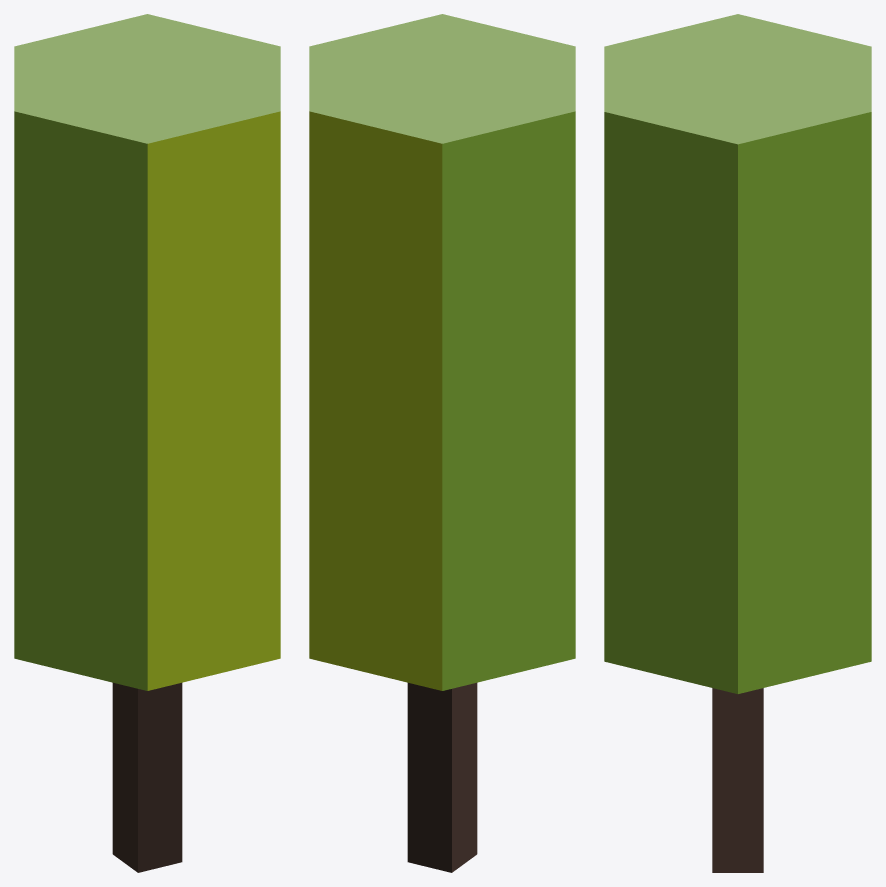
The model's file is TB_CITY_Env_Tree_Hexa_B.FBX.
3 renders of one model, left to right at view 1: azimuth 30°, elevation 25°; view 2: azimuth 150°, elevation 25°; view 3: azimuth 270°, elevation 25°, orthographic.
Parts seen in each view (by area): view 1: TB_CITY_Env_Tree_Hexa_B; view 2: TB_CITY_Env_Tree_Hexa_B; view 3: TB_CITY_Env_Tree_Hexa_B.
Part boxes in pixels (bbox=[...]): TB_CITY_Env_Tree_Hexa_B: bbox=[14, 14, 280, 872]; TB_CITY_Env_Tree_Hexa_B: bbox=[309, 14, 575, 872]; TB_CITY_Env_Tree_Hexa_B: bbox=[604, 14, 871, 872].
Bounding box in the file's own units: 2.16 × 6.05 × 1.87.
